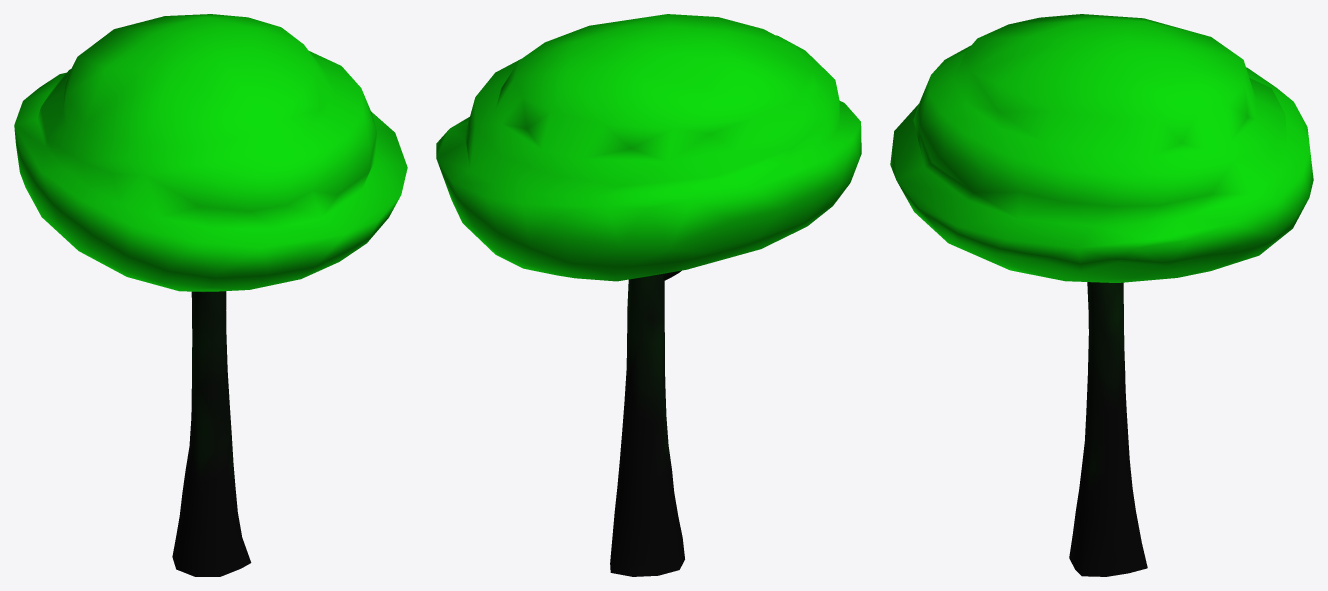
Rendered from Tree3.FBX.
3 renders of one model, left to right at view 1: azimuth 30°, elevation 25°; view 2: azimuth 150°, elevation 25°; view 3: azimuth 270°, elevation 25°, orthographic.
Parts seen in each view (by area): view 1: Tree3; view 2: Tree3; view 3: Tree3.
Part boxes in pixels (x1,y1,x2,y2): Tree3: (14,14,407,576); Tree3: (436,14,861,576); Tree3: (890,14,1313,576).
Bounding box in the file's own units: 542 × 776 × 571.
